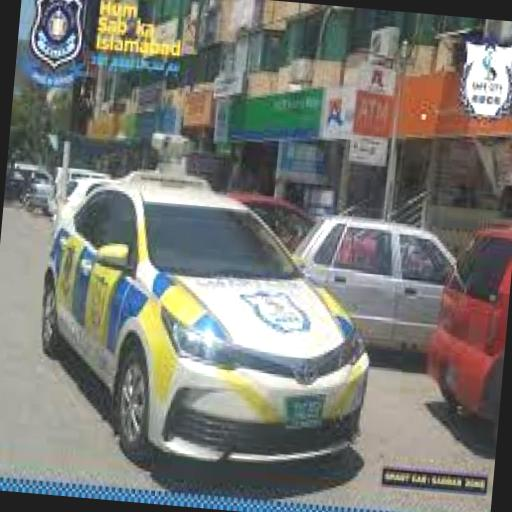Ambulance: (20, 156, 394, 496)
